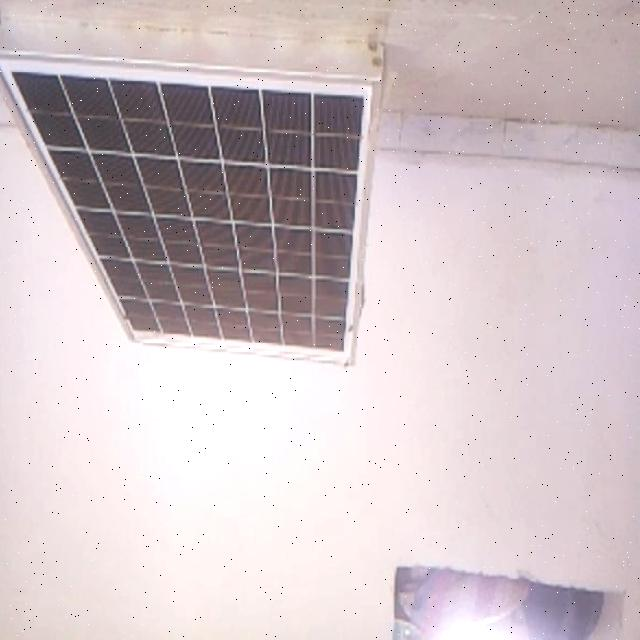Normal Solar Panel: (0, 23, 381, 366)
